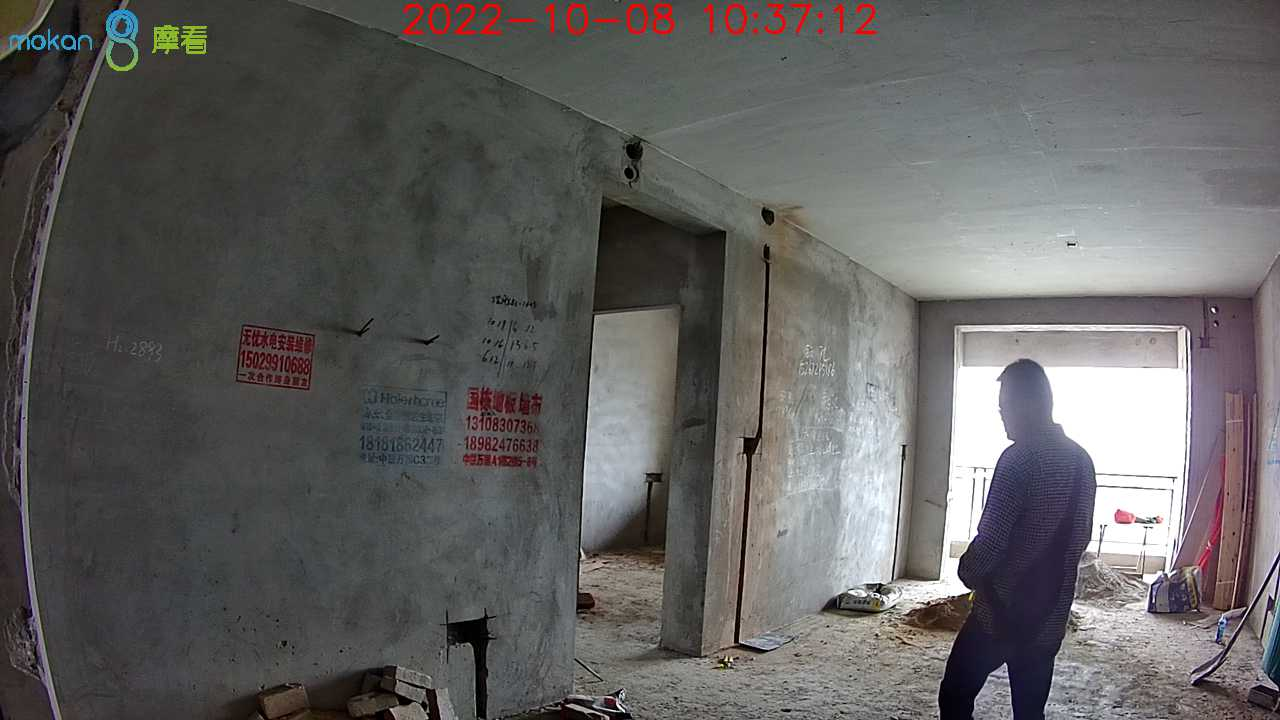people: (938, 358, 1097, 720)
window: (955, 331, 1176, 546)
